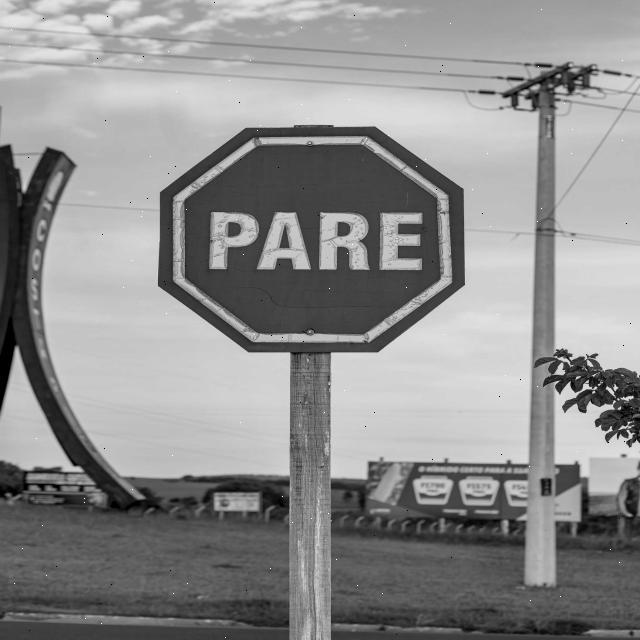Stop-sign: (132, 100, 490, 374)
